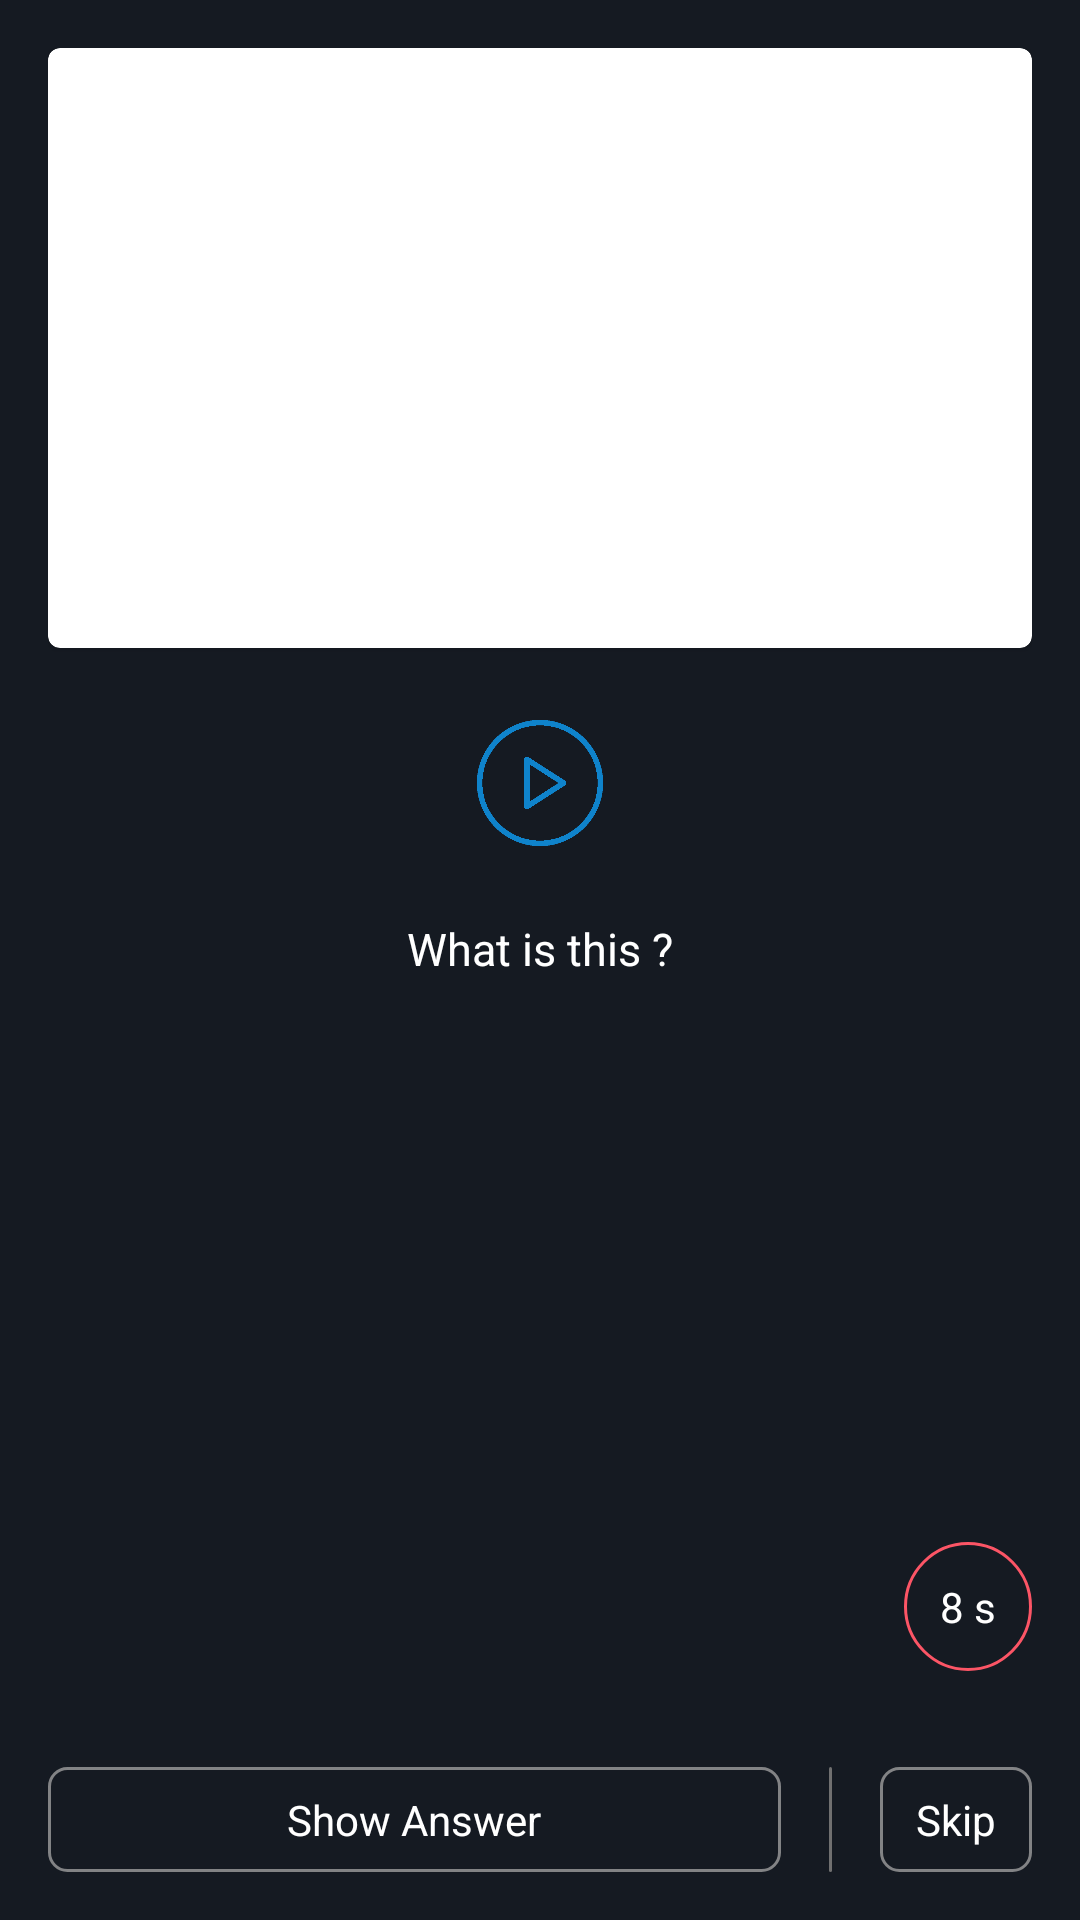

Icon bounding boxes for this 1080*1920 phone screenshot, format (x1, y1, x2, y2):
play: (477, 720, 603, 846)
